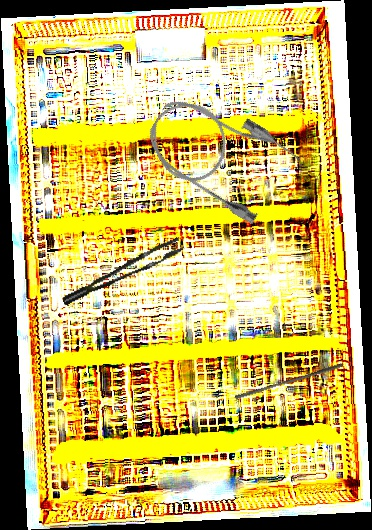Cannula: (135, 78, 305, 229)
Pusher: (233, 358, 345, 404)
Tissue Forceps: (55, 236, 190, 306)
